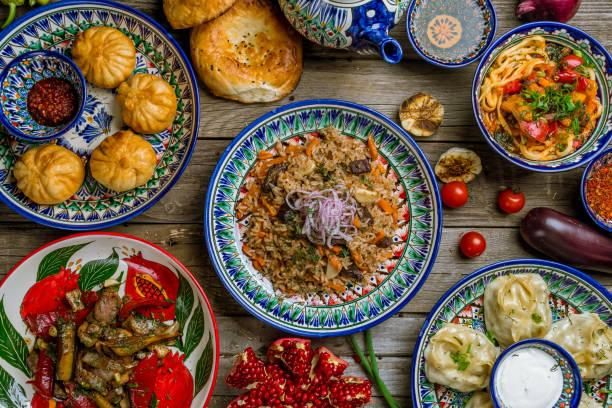Braised Crucian Carp: (202, 99, 433, 334), (0, 0, 194, 231), (0, 230, 215, 408), (410, 258, 611, 406), (472, 21, 610, 173)
